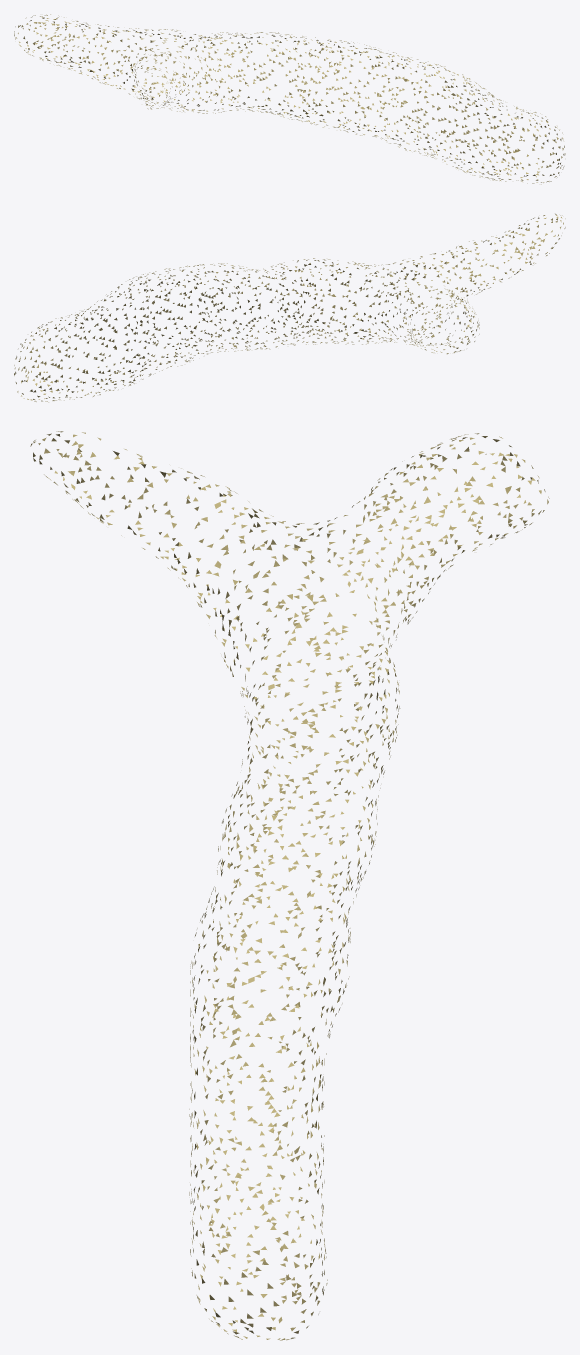
The model's file is morph_008.glb.
3 renders of one model, top to bottom at view 1: azimuth 30°, elevation 25°; view 2: azimuth 150°, elevation 25°; view 3: azimuth 270°, elevation 25°, orthographic. The views are drawn at different scales.
Bounding box in the file's own units: 123 × 59.18 × 57.22.
